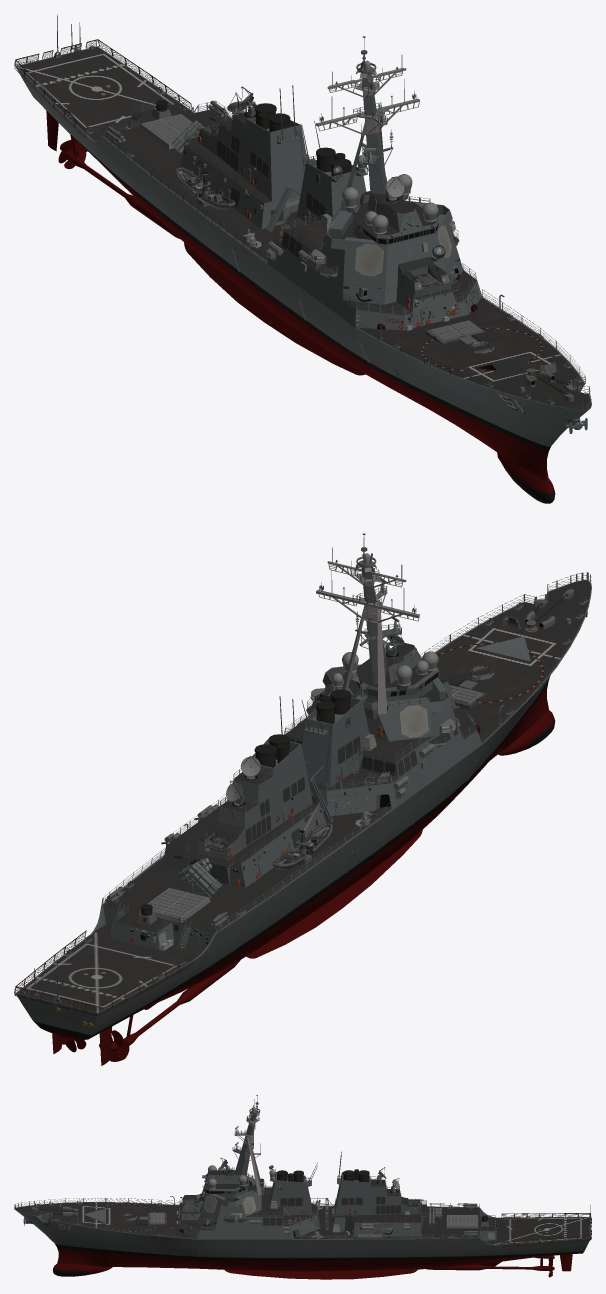
Rendered from ship_destroyer.glb.
3 views of the same model, one above another, from view 1: azimuth 30°, elevation 25°; view 2: azimuth 150°, elevation 25°; view 3: azimuth 270°, elevation 25° (orthographic). The views are drawn at different scales.
Size of the model in its own units: 7.4 by 15.99 by 46.
Materials: 5 (5 with a texture image).
